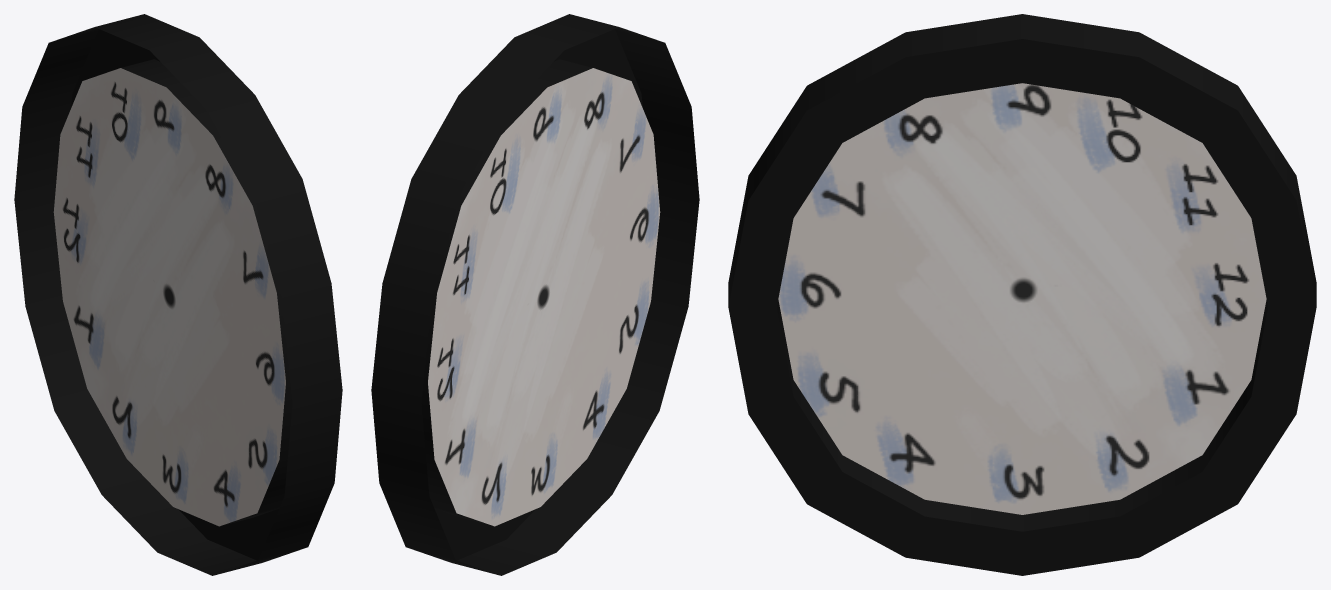
The model's file is clock.fbx.
3 renders of one model, left to right at view 1: azimuth 30°, elevation 25°; view 2: azimuth 150°, elevation 25°; view 3: azimuth 270°, elevation 25°, orthographic. The views are drawn at different scales.
Parts seen in each view (by area): view 1: Plane.001; view 2: Plane.001; view 3: Plane.001.
Part boxes in pixels (<box>): Plane.001: <box>14,14,342,575</box>; Plane.001: <box>371,14,699,575</box>; Plane.001: <box>728,14,1316,575</box>.
Bounding box in the file's own units: 6.61 × 55.11 × 55.03.
